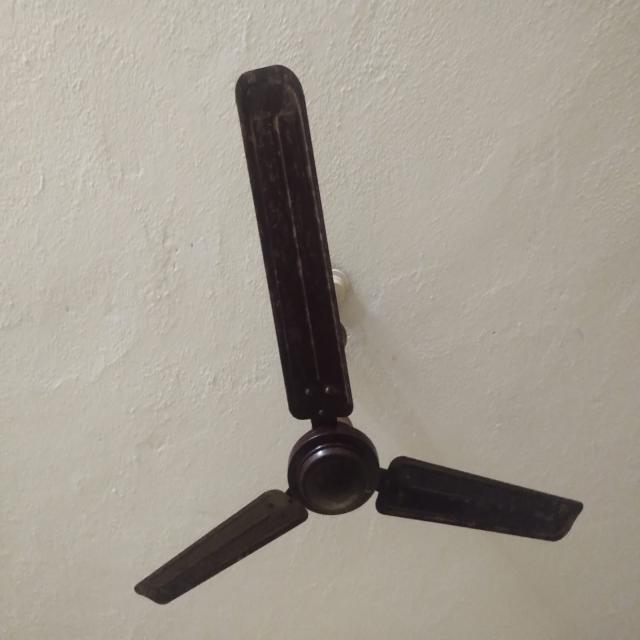fan_off: (136, 70, 588, 608)
